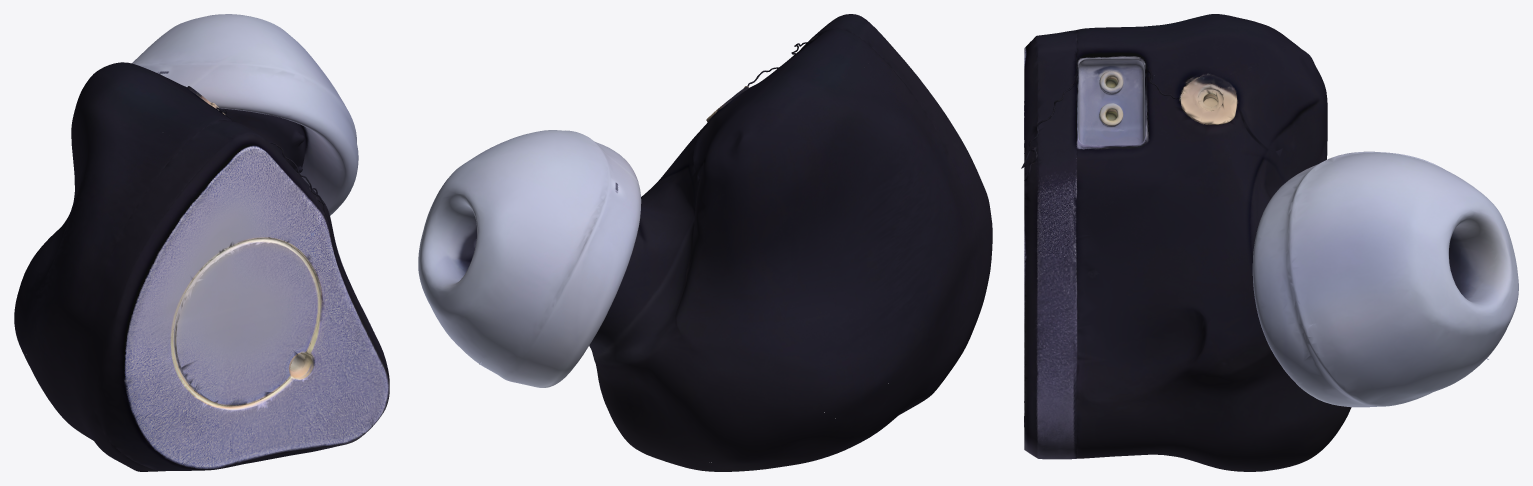
File: supermix-R.glb
3 renders of one model, left to right at view 1: azimuth 30°, elevation 25°; view 2: azimuth 150°, elevation 25°; view 3: azimuth 270°, elevation 25°, orthographic. The views are drawn at different scales.
Visible parts, largest first — view 1: tripo_node_efba01e3-5fc7-4765-92e3-950656bab1de; view 2: tripo_node_efba01e3-5fc7-4765-92e3-950656bab1de; view 3: tripo_node_efba01e3-5fc7-4765-92e3-950656bab1de.
Part boxes in pixels (x1=…): tripo_node_efba01e3-5fc7-4765-92e3-950656bab1de: x1=14, y1=14, x2=389, y2=471; tripo_node_efba01e3-5fc7-4765-92e3-950656bab1de: x1=418, y1=14, x2=992, y2=471; tripo_node_efba01e3-5fc7-4765-92e3-950656bab1de: x1=1021, y1=14, x2=1518, y2=471.
Bounding box in the file's own units: 0.9363 × 0.8578 × 0.9787.
1 material, 1 textured.
